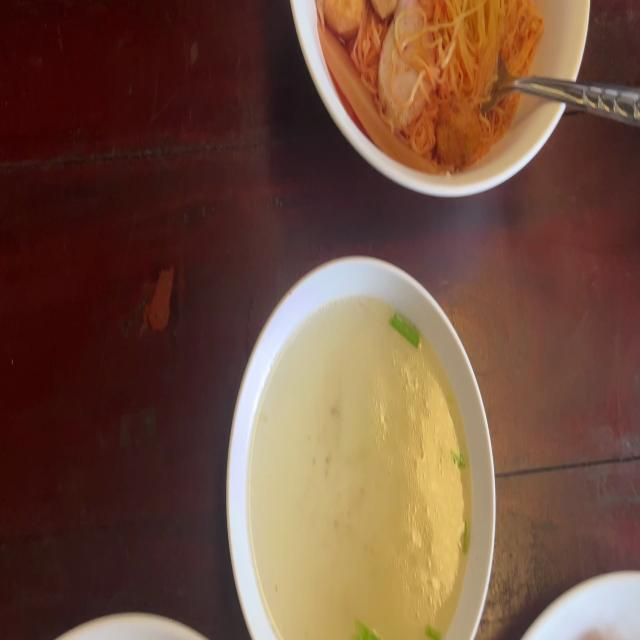crunchy_squid: (320, 34, 446, 178)
egg_noodles: (438, 0, 542, 118)
fish_ball: (321, 0, 368, 44)
fried_fish_balls: (375, 4, 437, 130)
noodle: (311, 0, 546, 173)
